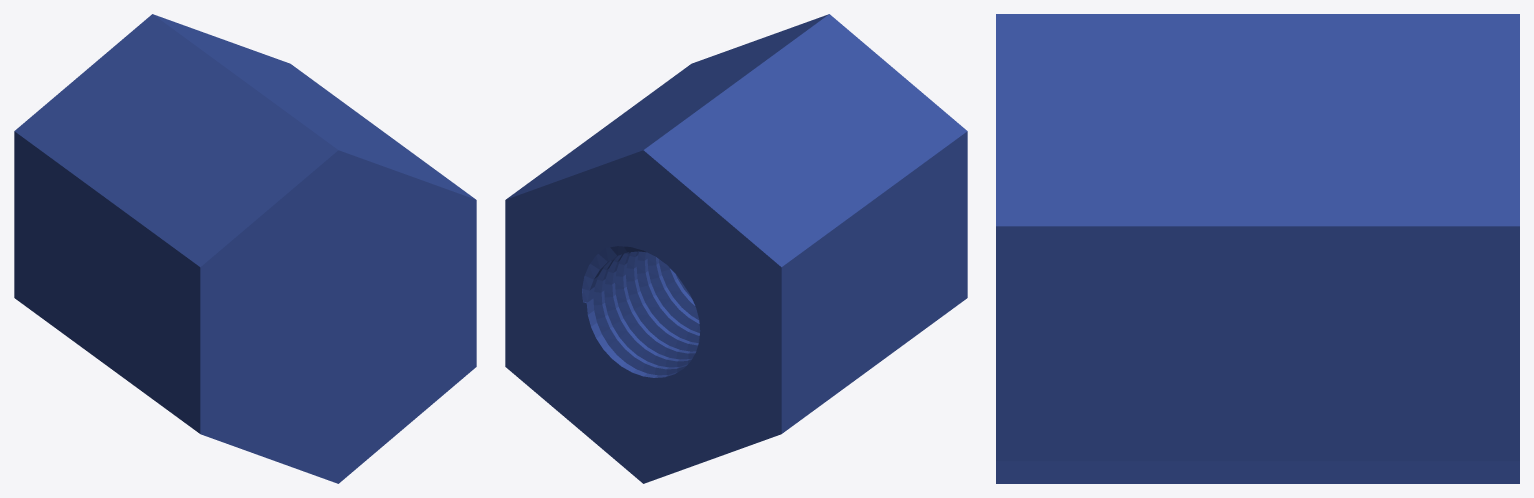
The model's file is tinker.obj.
The picture shows the model from 3 angles, left to right: view 1: azimuth 30°, elevation 25°; view 2: azimuth 150°, elevation 25°; view 3: azimuth 270°, elevation 25°; orthographic projection. The views are drawn at different scales.
Parts seen in each view (by area): view 1: obj_0; view 2: obj_0; view 3: obj_0.
Part boxes in pixels (x1,y1,x2,y2): obj_0: [14, 14, 476, 483]; obj_0: [505, 14, 967, 483]; obj_0: [996, 14, 1519, 483].
Bounding box in the file's own units: 30 × 34.64 × 35.
